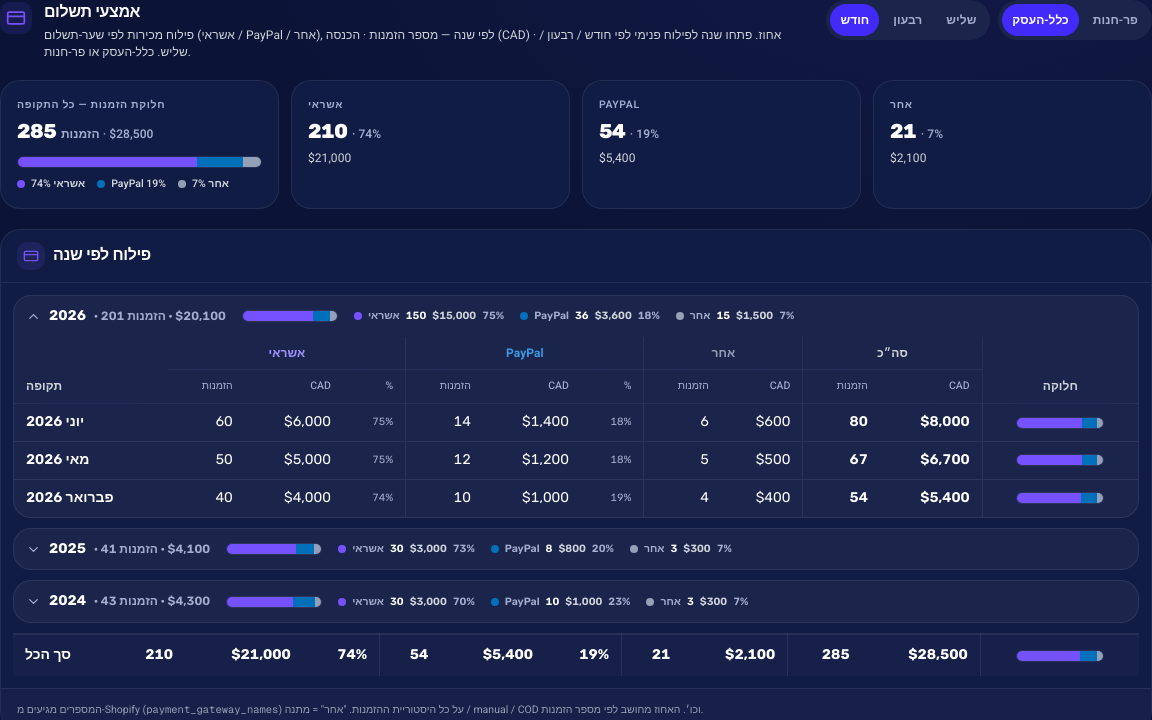
Test case: PaymentMethodsTab — granularity toggle re-groups sub-rows › switching to quarter groups 2026 sub-rows into Q1 / Q2
The image size is (1152, 720).
Expected: the row with test id "pm-period-2026-05" is shown, [14,442,1138,479]
Click the radio button with test id "pm-gran-quarter".
click(908, 20)  # box [883,4,932,36]
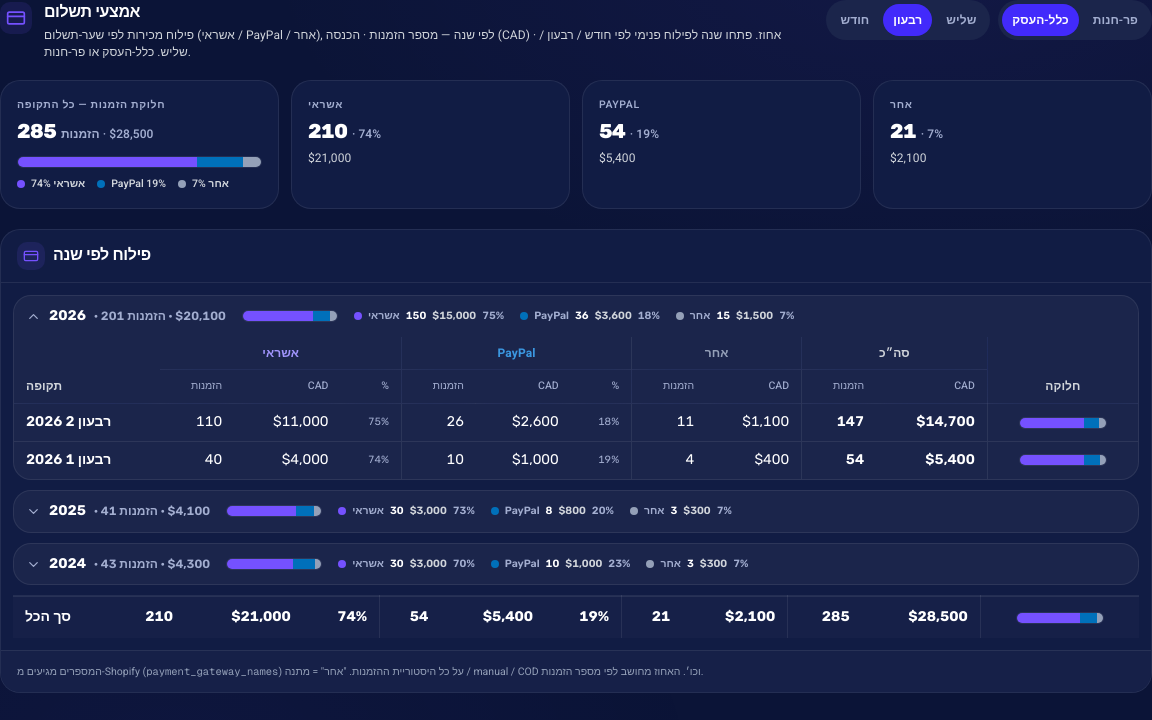
Expected: the row with test id "pm-period-2026-Q1" is shown, [14,442,1138,479]
Expected: the row with test id "pm-period-2026-Q2" is shown, [14,404,1138,442]
Expected: the row with test id "pm-period-2026-05" is gone
